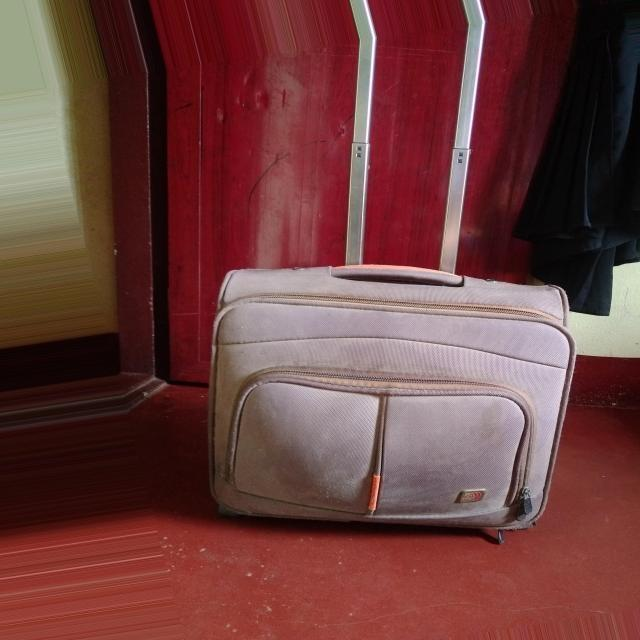Suitcase: (202, 38, 602, 559)
